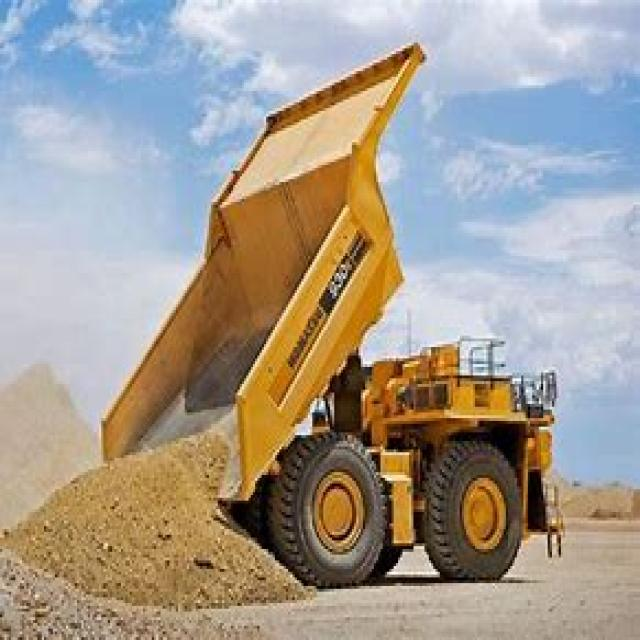dump_truck: (38, 17, 570, 589)
